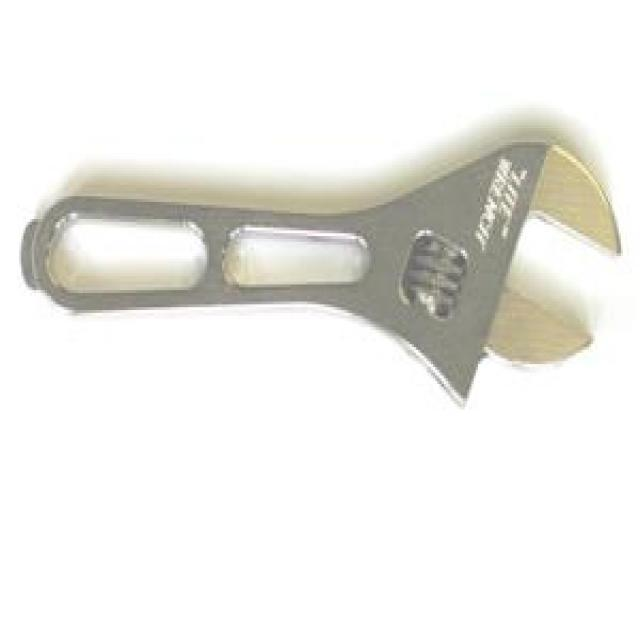wrench: (15, 130, 631, 420)
